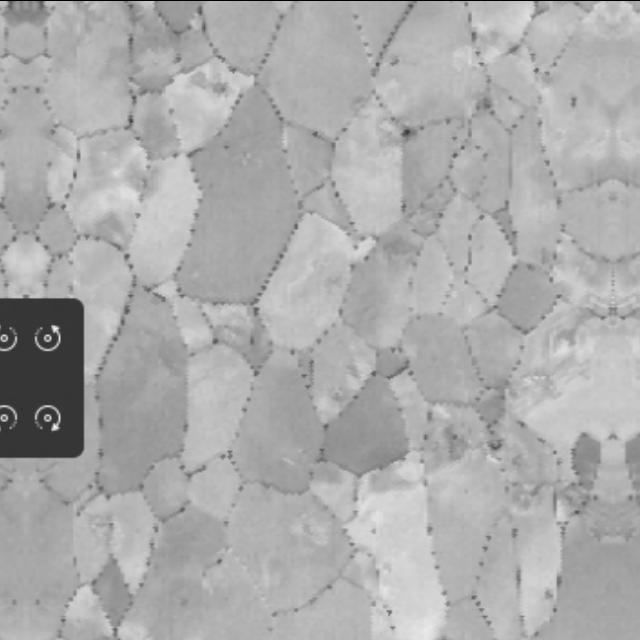good_void: (194, 62, 236, 101), (390, 120, 421, 141), (485, 433, 510, 456), (565, 92, 584, 112), (385, 53, 407, 68)
